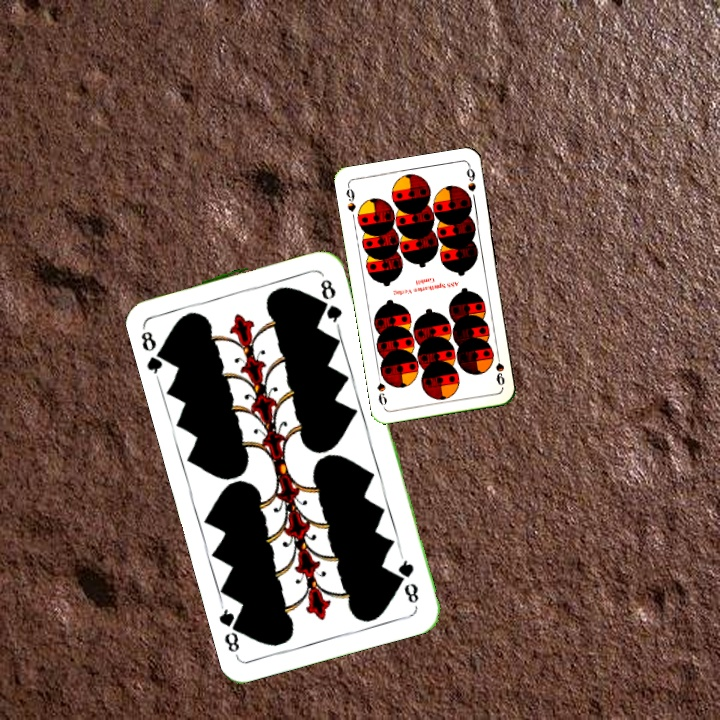G8: (137, 321, 171, 379), (393, 550, 422, 606)
S9: (492, 348, 507, 388), (342, 181, 358, 214)
